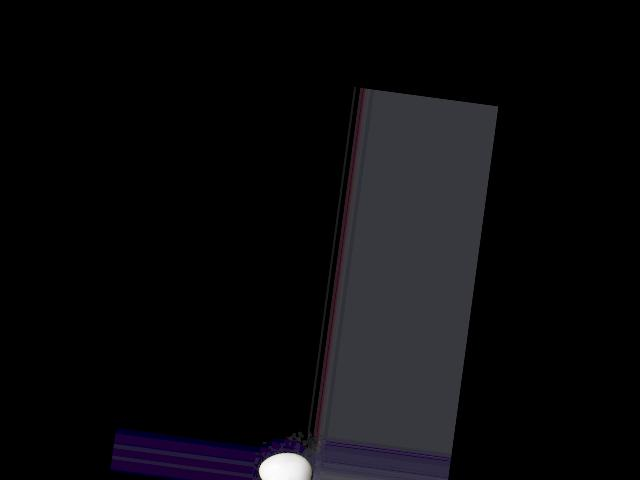egg: (257, 450, 314, 480)
